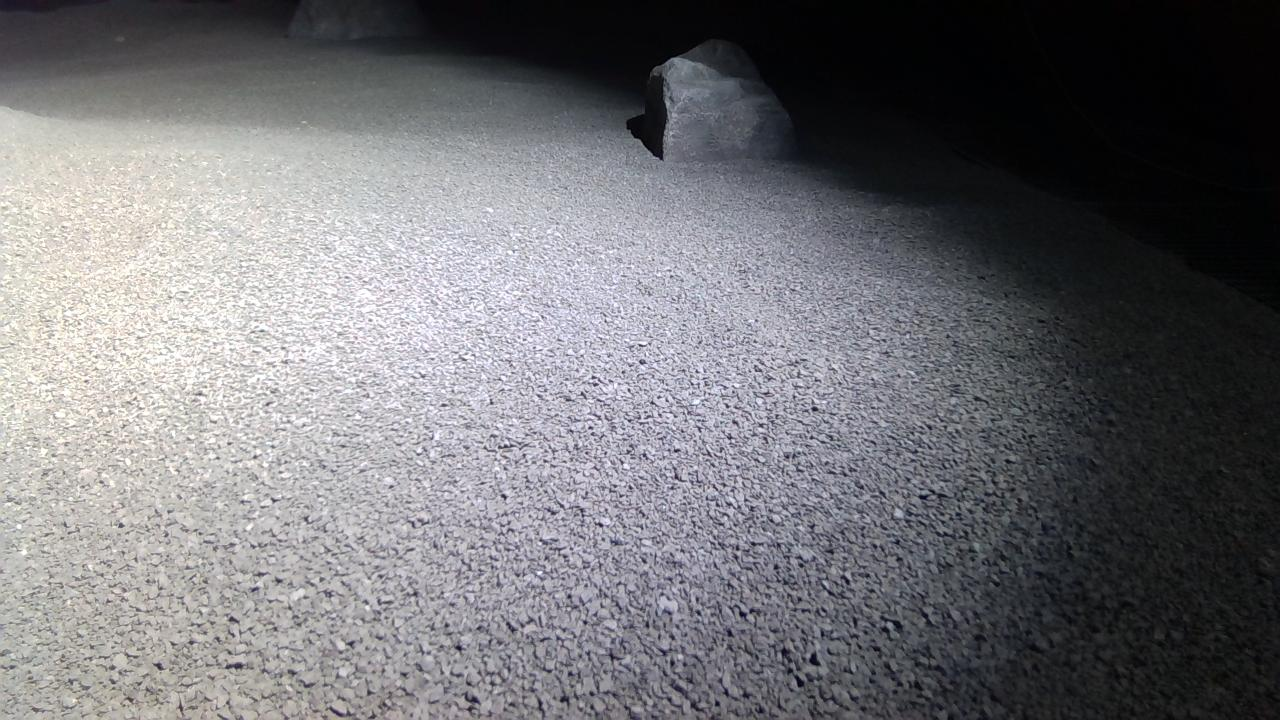rock: (643, 38, 796, 159), (289, 0, 428, 38)
